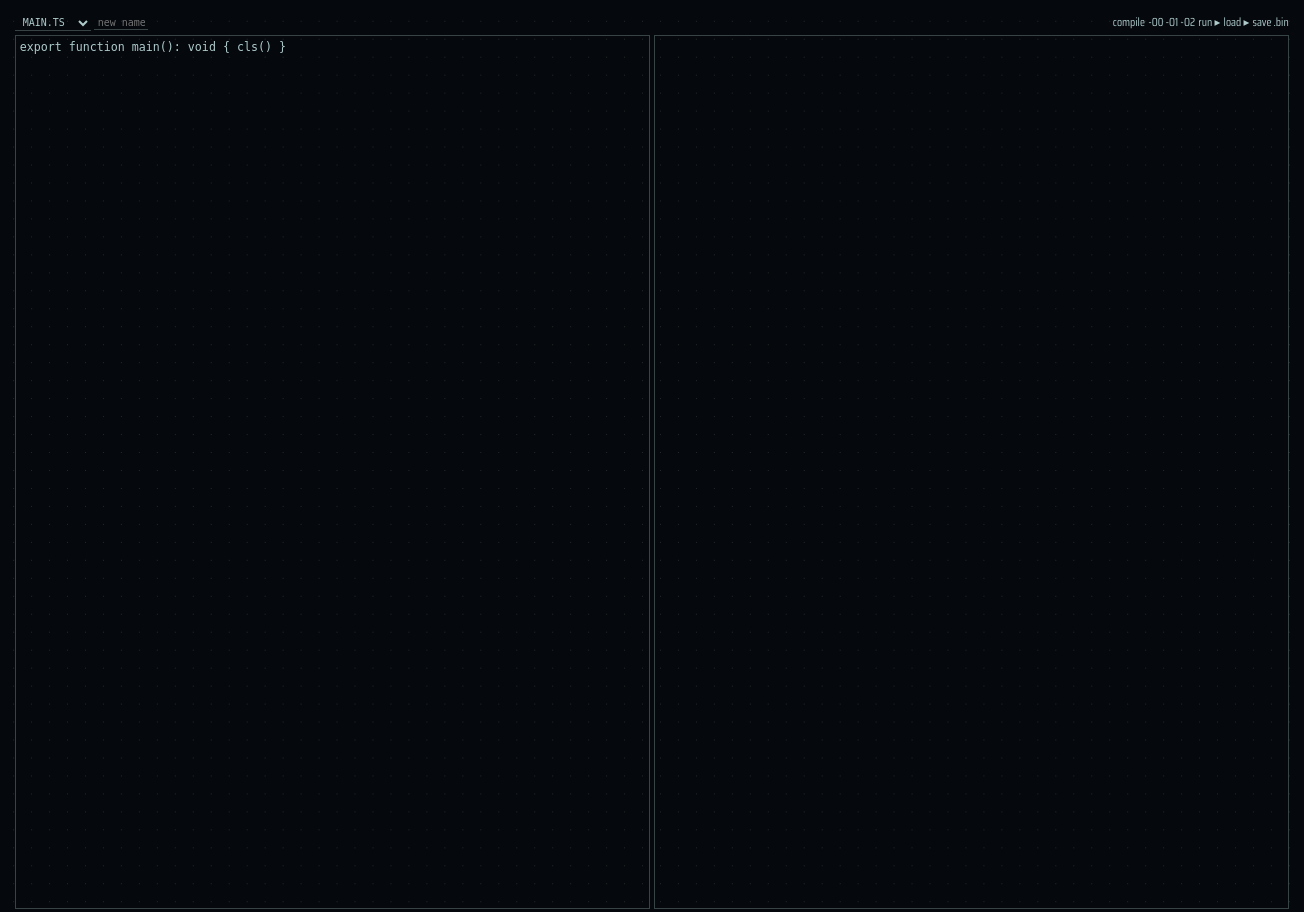
it: CODE's view › shows a build that comes back for the file still open
Click the button with test id "elec16-compile" at x=1129, y=23, box [1113,16,1145,31]
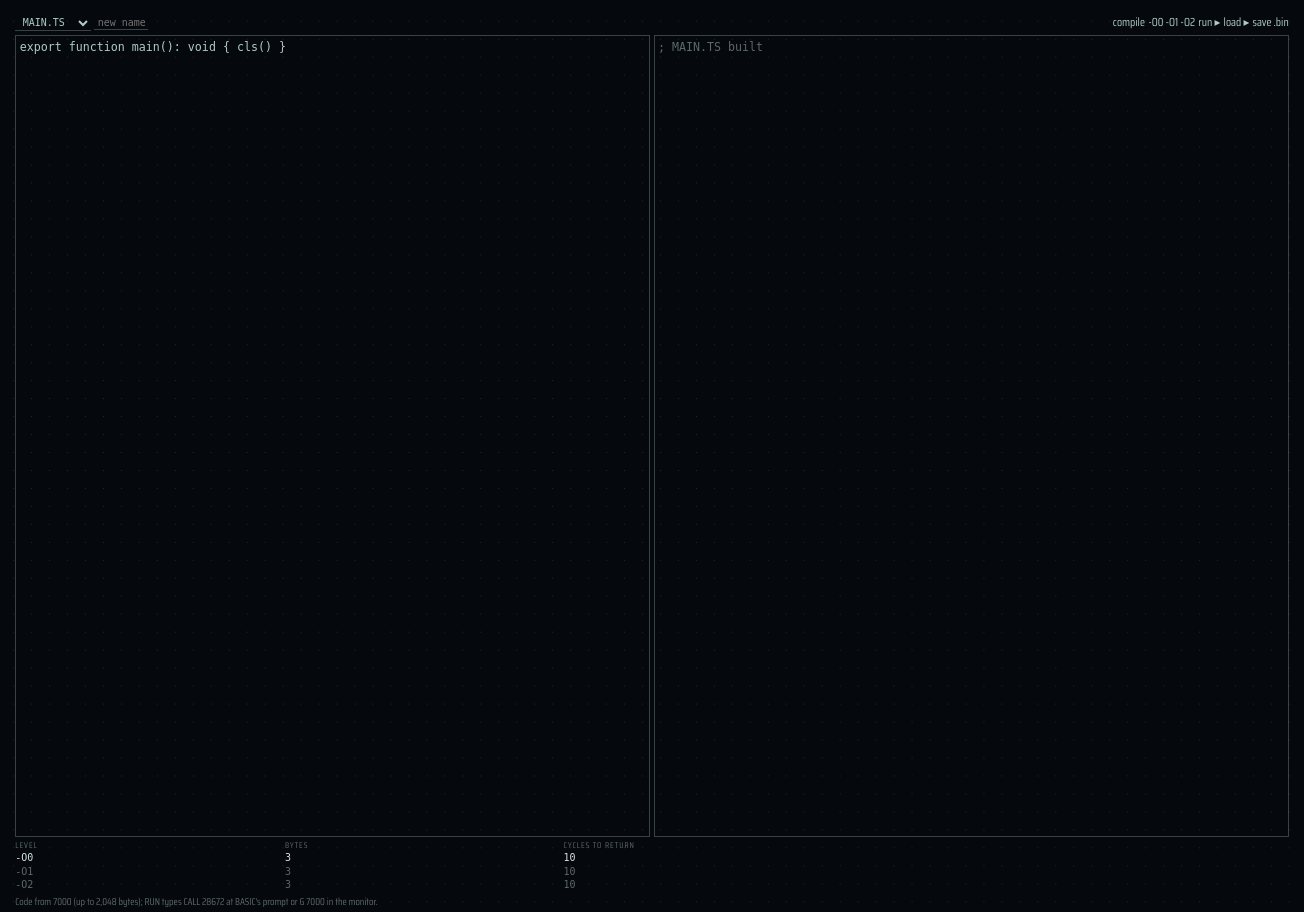
Expected: the button with test id "elec16-run" is enabled, [1198,16,1220,31]
Result: the text with test id "elec16-asm" shows "MAIN.TS built" at [658,40,763,54]
